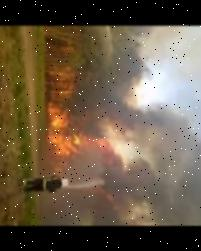fire: (42, 100, 86, 159)
